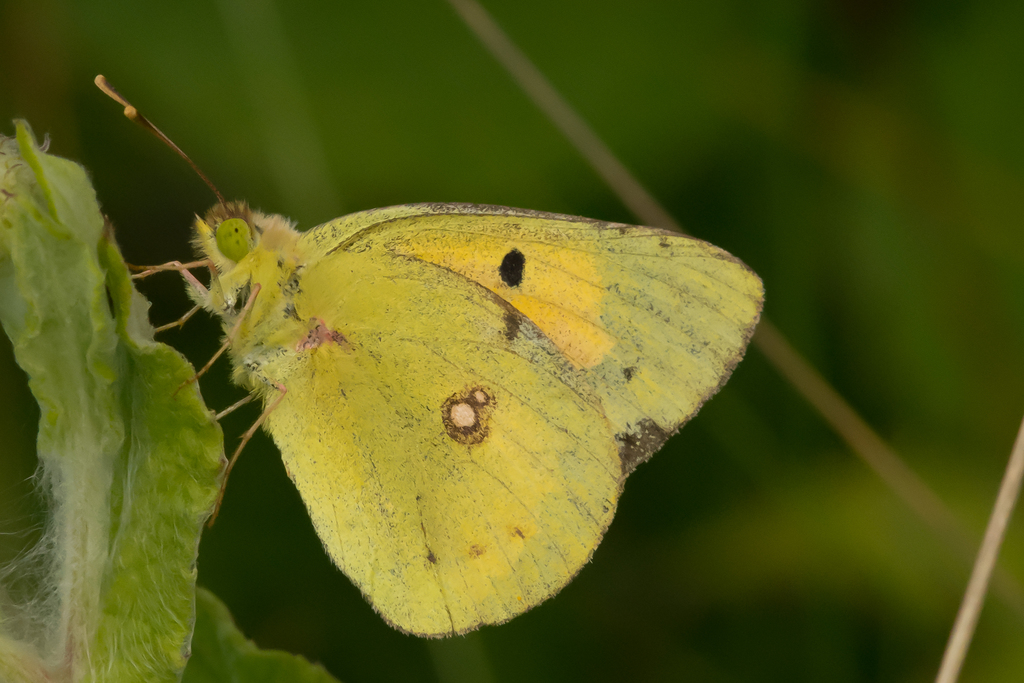Butterfly: (147, 166, 804, 634)
